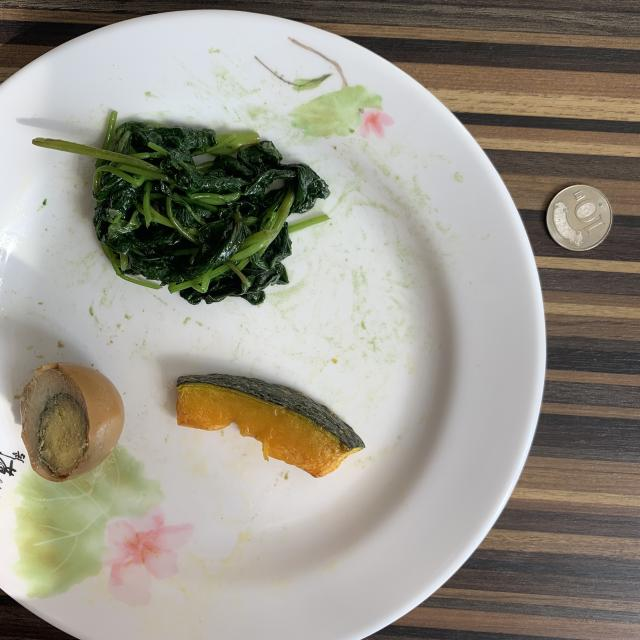coin: (546, 185, 612, 251)
pumpkin: (176, 374, 365, 478)
soy egg: (21, 362, 124, 481)
sweet potato leaves: (32, 111, 330, 305)
